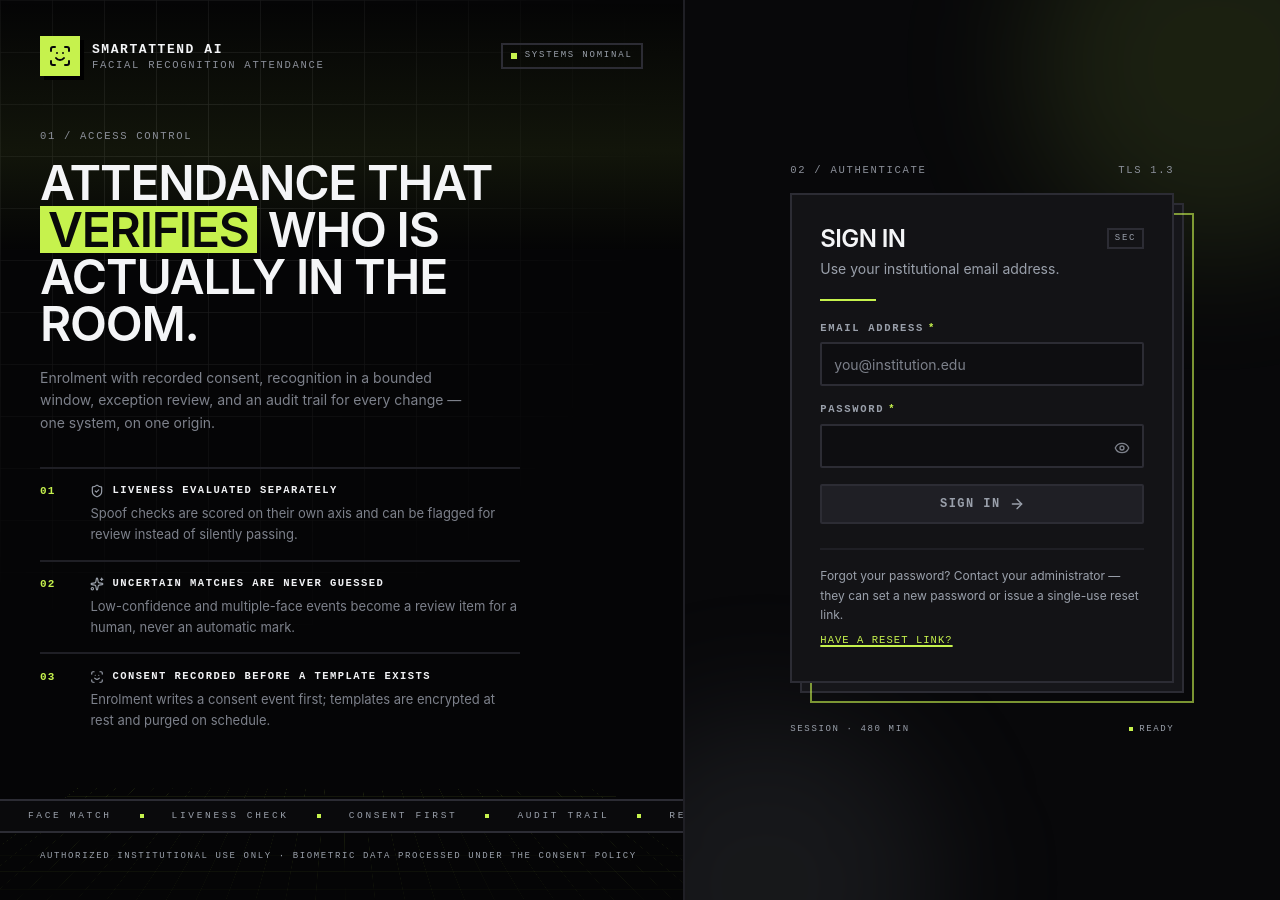
Scenario: login › shows the API error message on invalid credentials
Type "staff@example.edu" into the field labelled "Email address*" at (982, 364), box x1=820 y1=342 x2=1144 y2=386
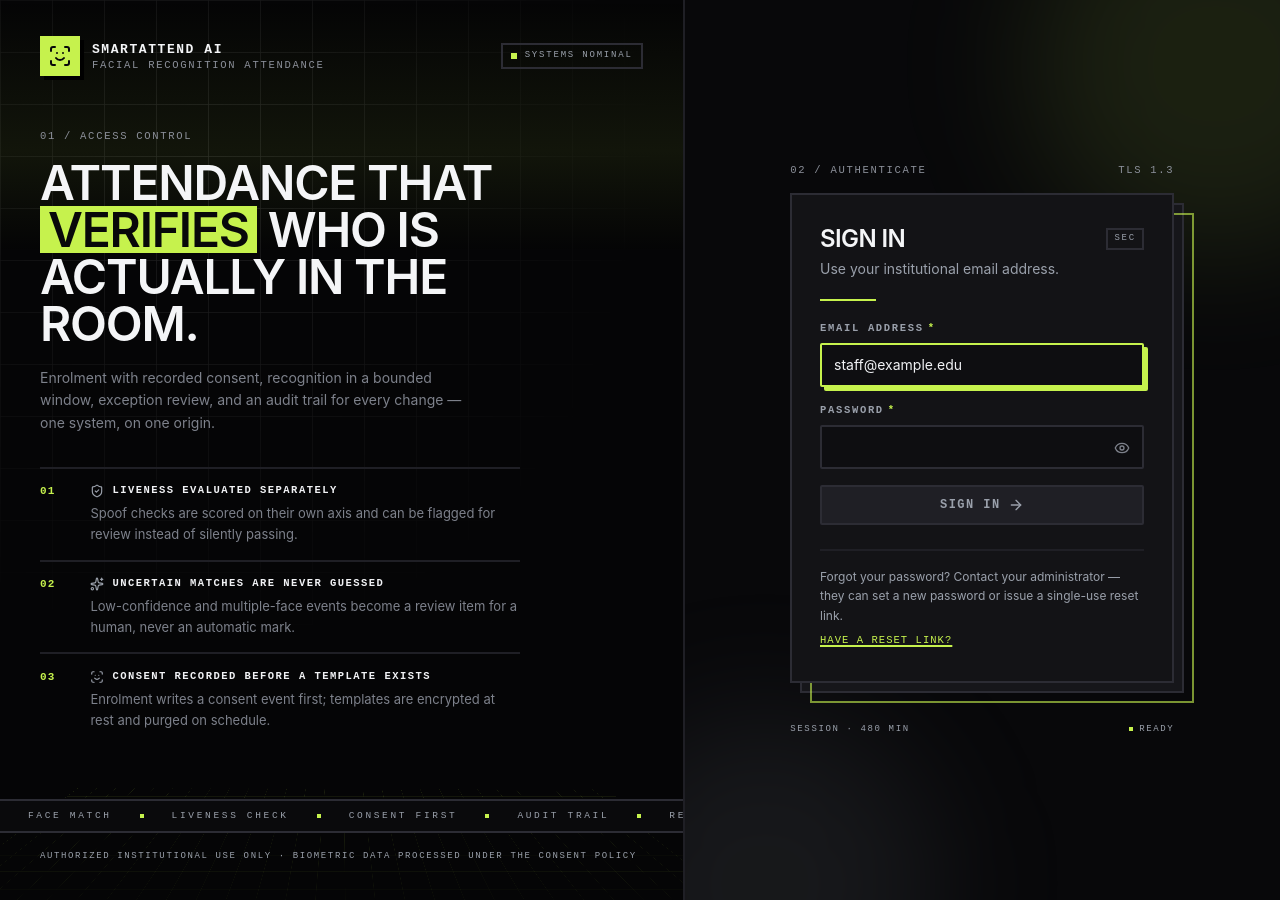
Type "WrongPassw0rd" into the password field labelled "Password*" at (982, 446), box x1=820 y1=424 x2=1144 y2=468
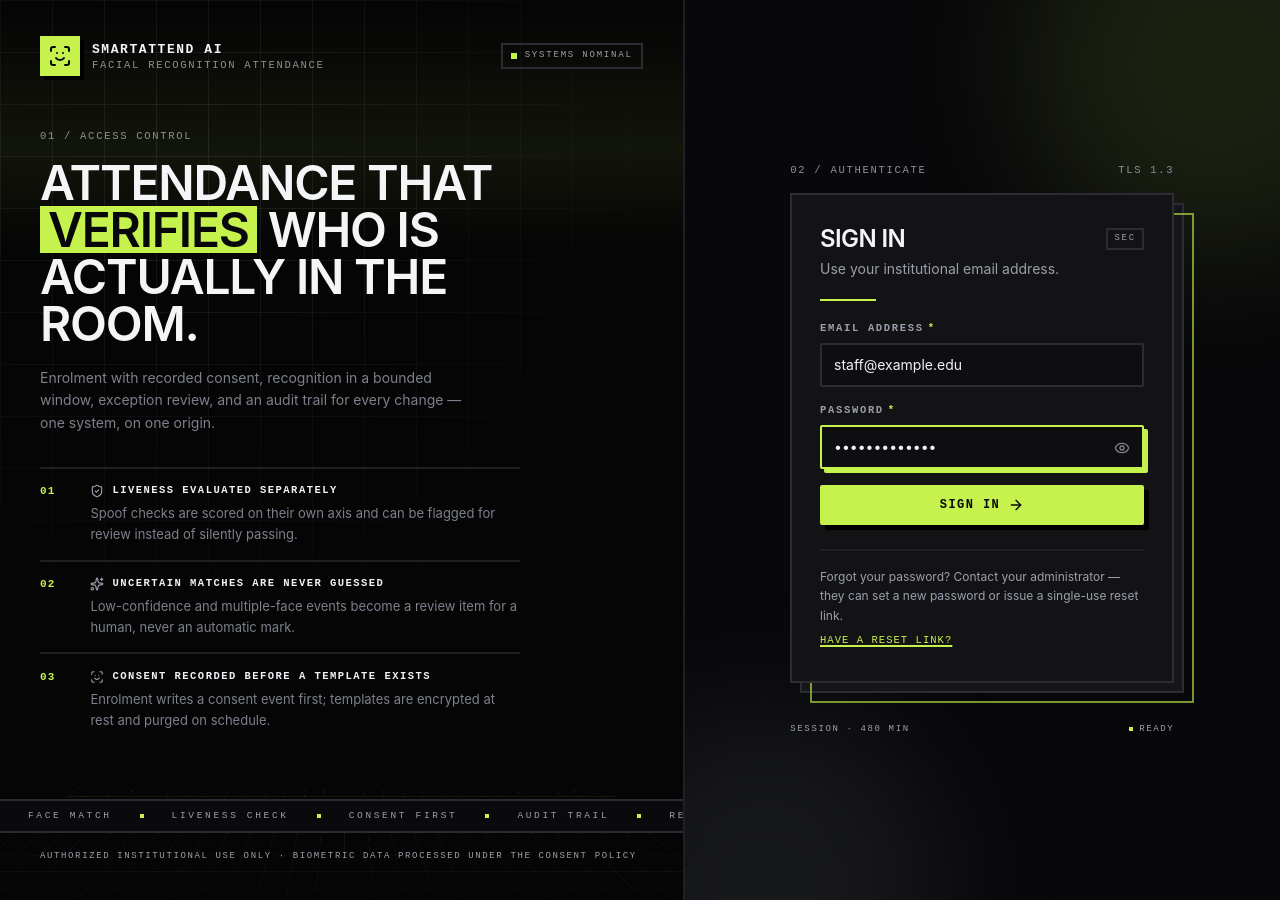
Click the button "Sign in" at (982, 504), box x1=820 y1=484 x2=1144 y2=524
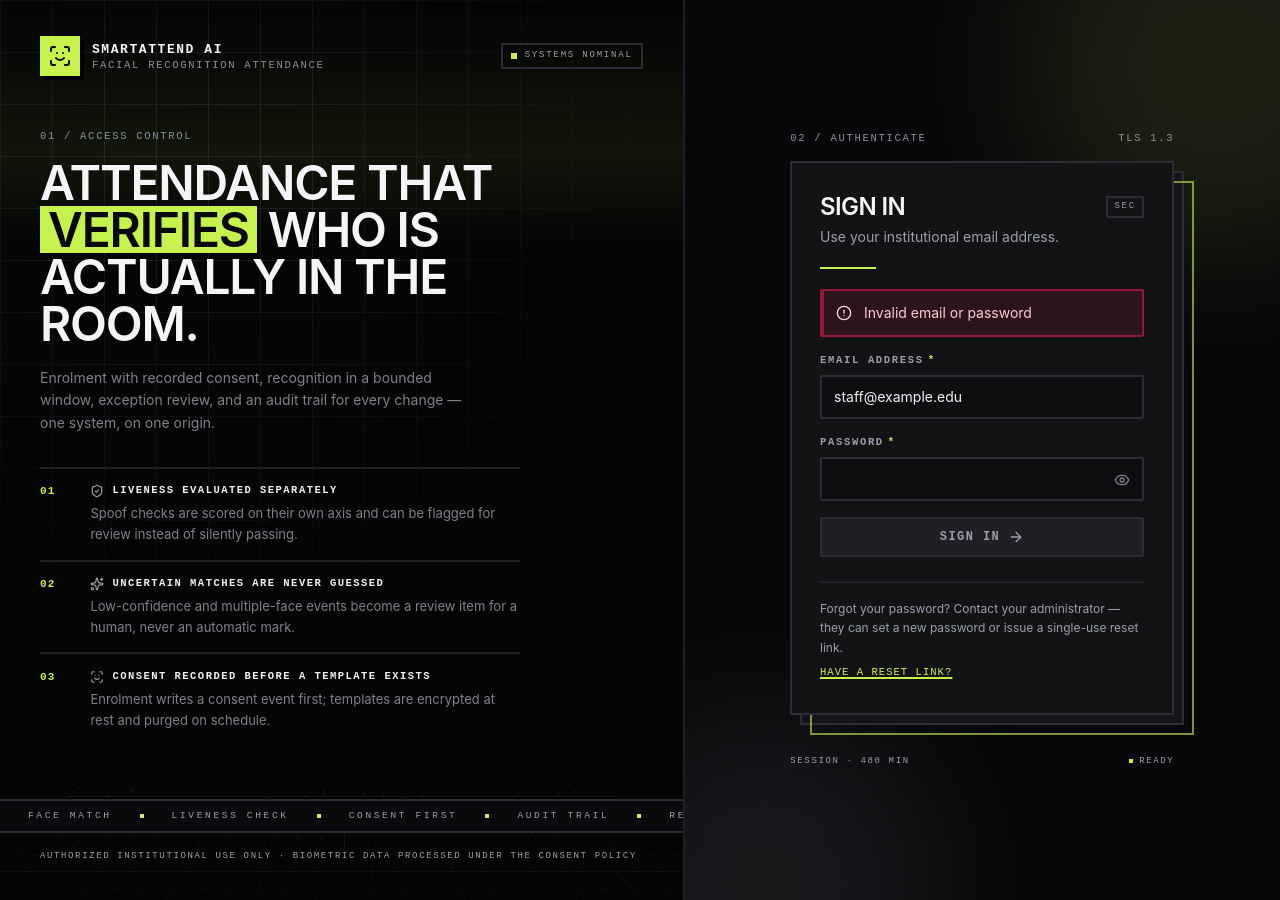
Result: the message reads "Invalid email or password" at x1=864 y1=304 x2=1032 y2=321
